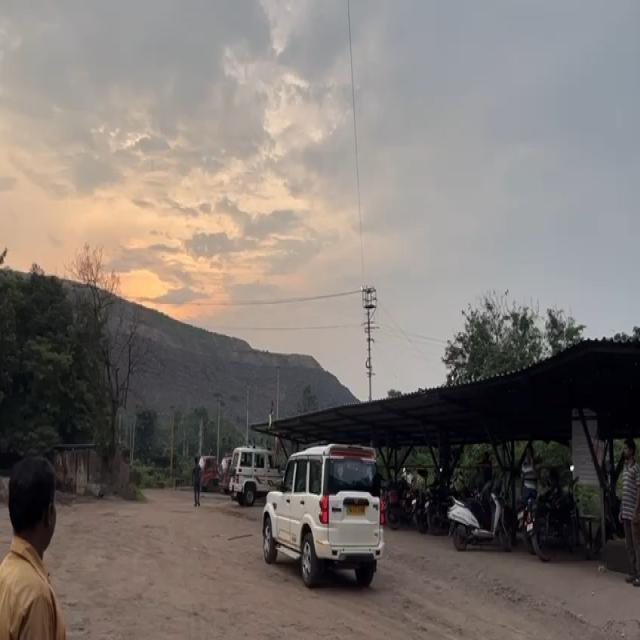light_vehicle: (272, 445, 385, 586), (226, 446, 265, 504)
